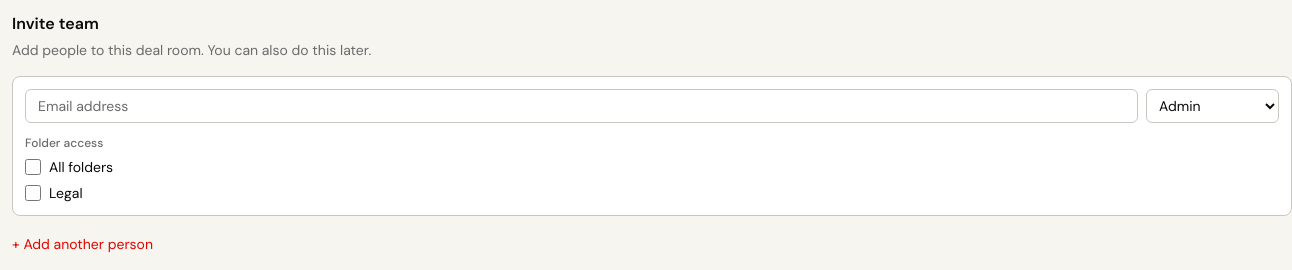
StepInvite › All folders checkbox toggles all folder ids on/off
The width and height of the screenshot is (1292, 270).
Expected: the checkbox labelled "Legal" is not checked, left=25, top=185, right=41, bottom=201
Click the checkbox labelled "All folders".
click(33, 167)  # box left=25, top=159, right=41, bottom=175
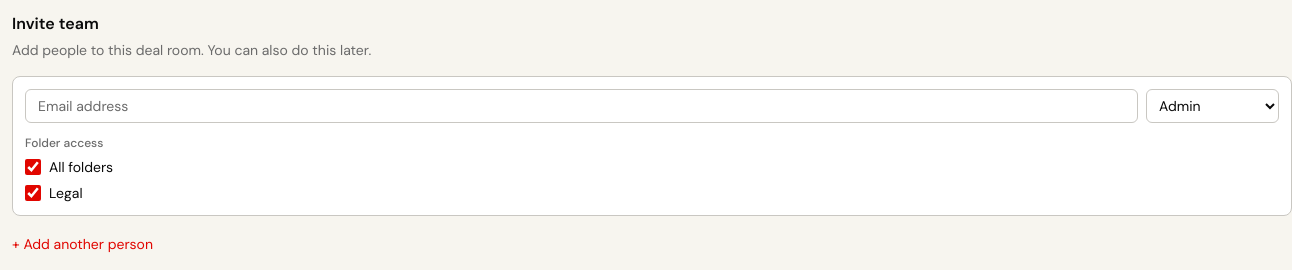
Now the checkbox labelled "Legal" is checked, box left=25, top=185, right=41, bottom=201
Click the checkbox labelled "All folders".
click(33, 167)  # box left=25, top=159, right=41, bottom=175
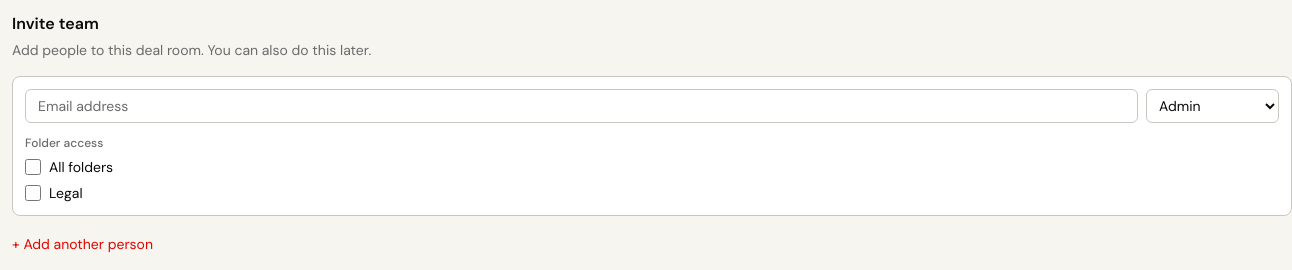
Now the checkbox labelled "Legal" is not checked, box left=25, top=185, right=41, bottom=201
